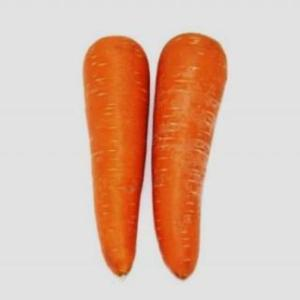carrot: (150, 32, 232, 286), (82, 34, 150, 282)
